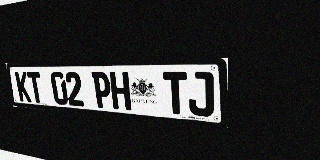0: (50, 72, 69, 105)
2: (64, 72, 84, 106)
H: (109, 72, 131, 110)
J: (187, 72, 214, 117)
K: (15, 72, 31, 102)
P: (91, 72, 112, 109)
T: (163, 72, 188, 115), (27, 72, 44, 103)
